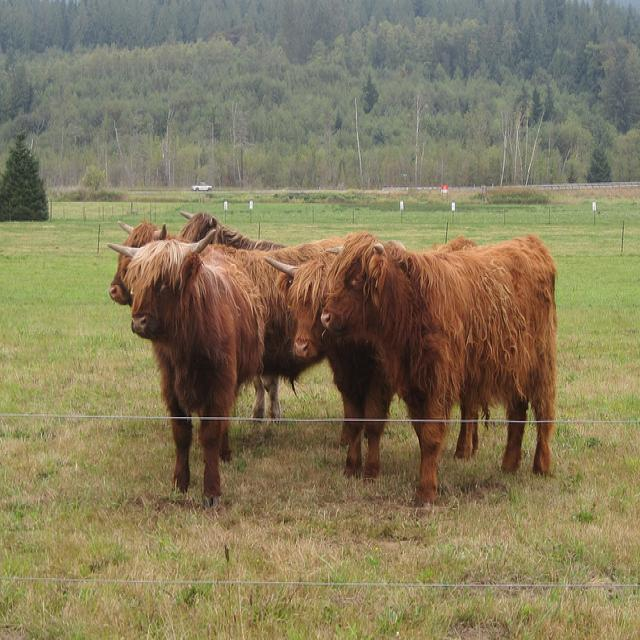Vehicle: (191, 181, 213, 191)
